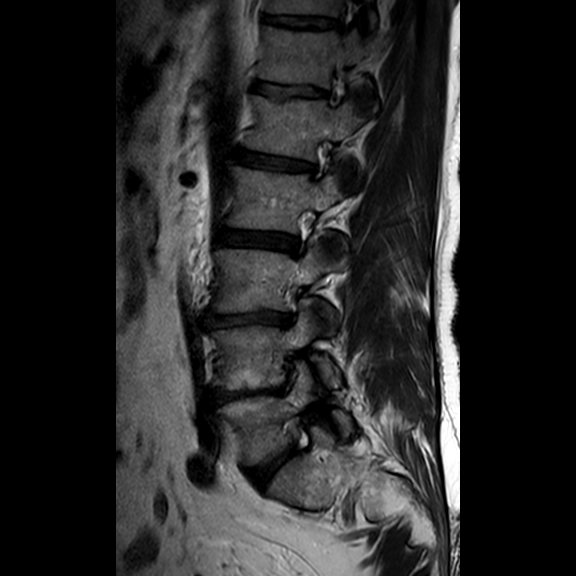RFS0: (279, 197, 321, 266), (298, 128, 342, 190)
